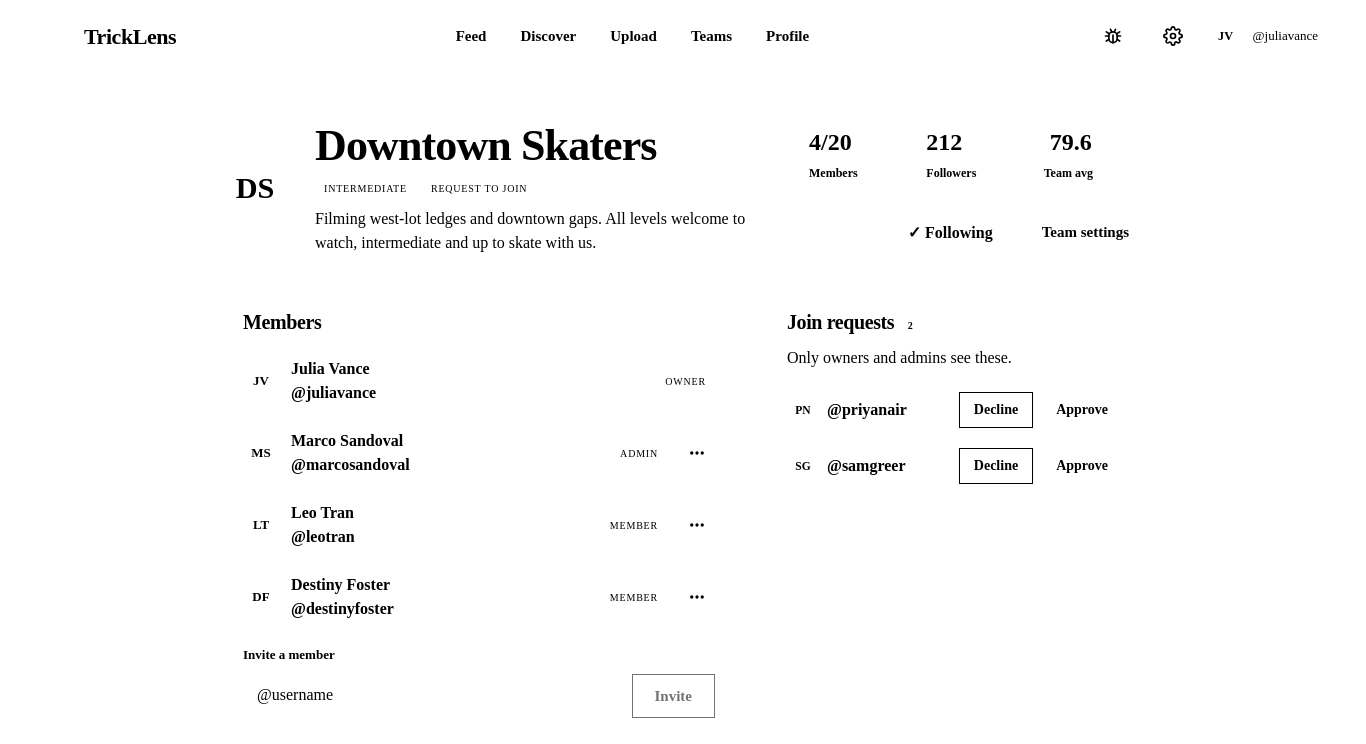
Test case: a live team › lets the owner promote a member and approve a join request
Expected: the text "Leo Tran" is shown, [291,504,354,521]
Click the heading named "Manage @leotran": click(697, 525) [688,516,706,534]
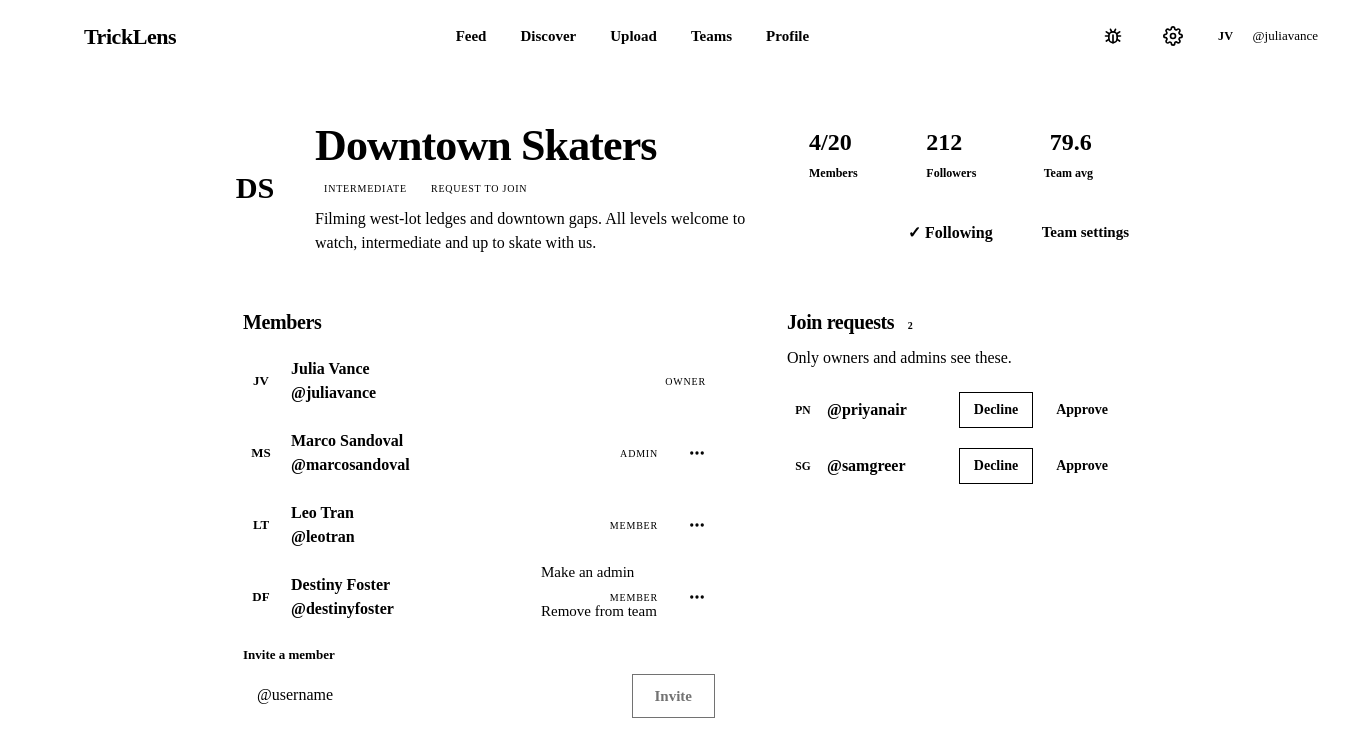
Click the button "Make an admin": click(619, 572) [529,553,709,592]
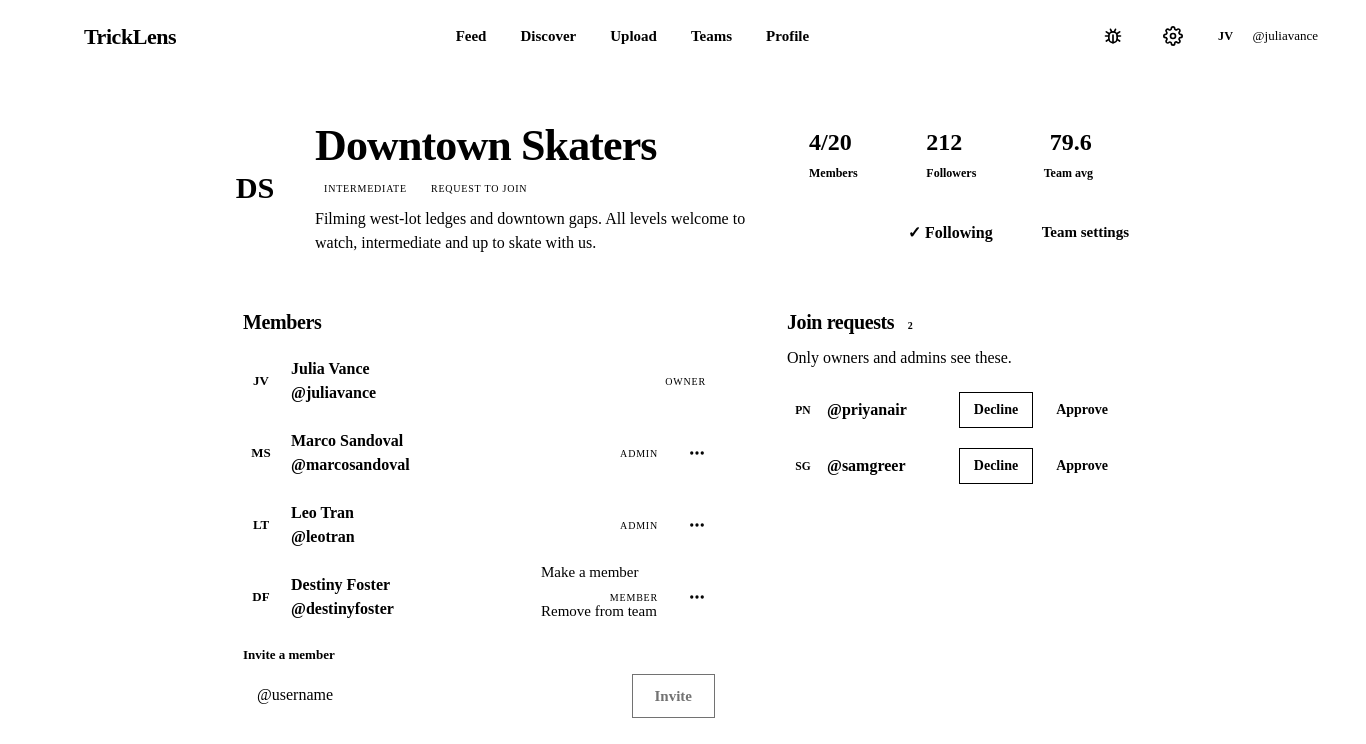
Result: the text "admin" in the row of "LT" is shown at [620,520,658,531]
Click the button "Approve" in the row of "PN": click(1082, 410) [1041,392,1123,428]
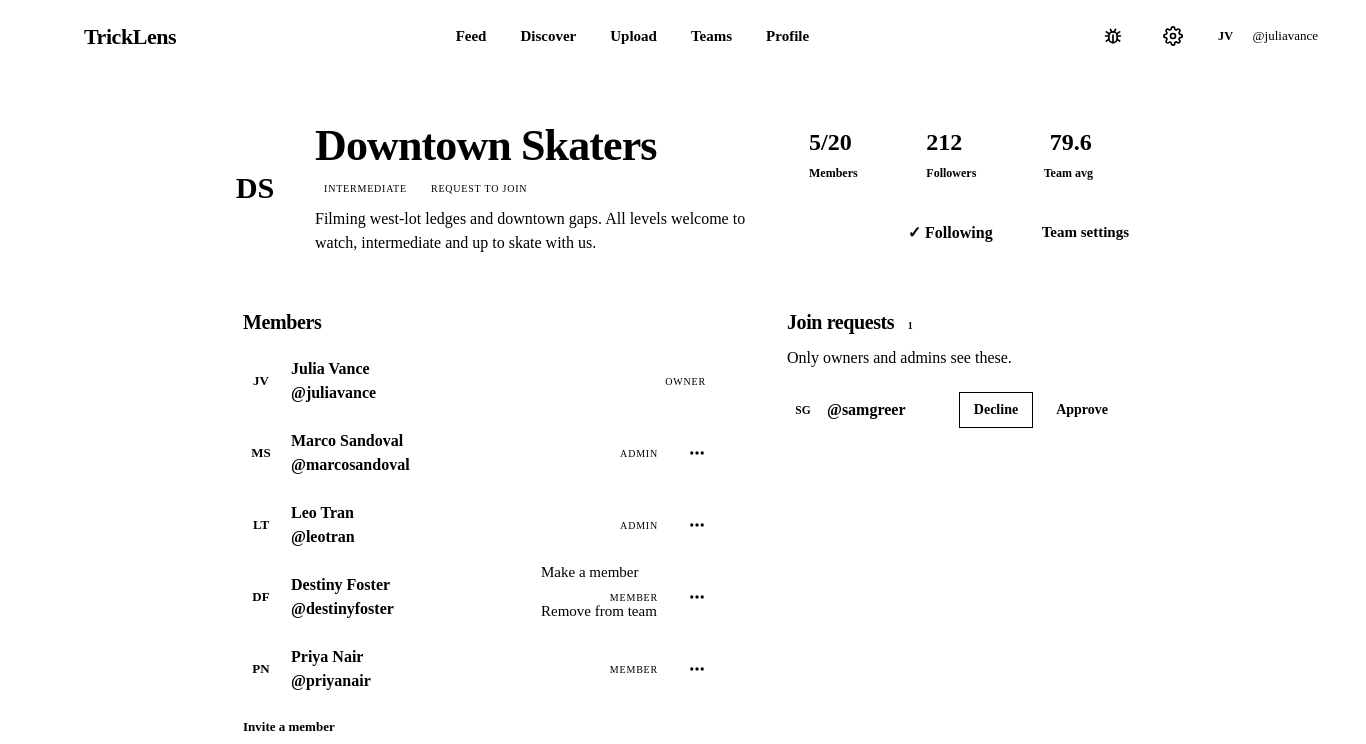
Result: the text "Priya Nair" is shown at [291,648,363,665]
